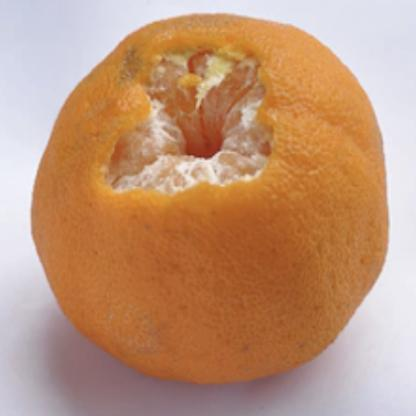fresh: (34, 15, 389, 386)
